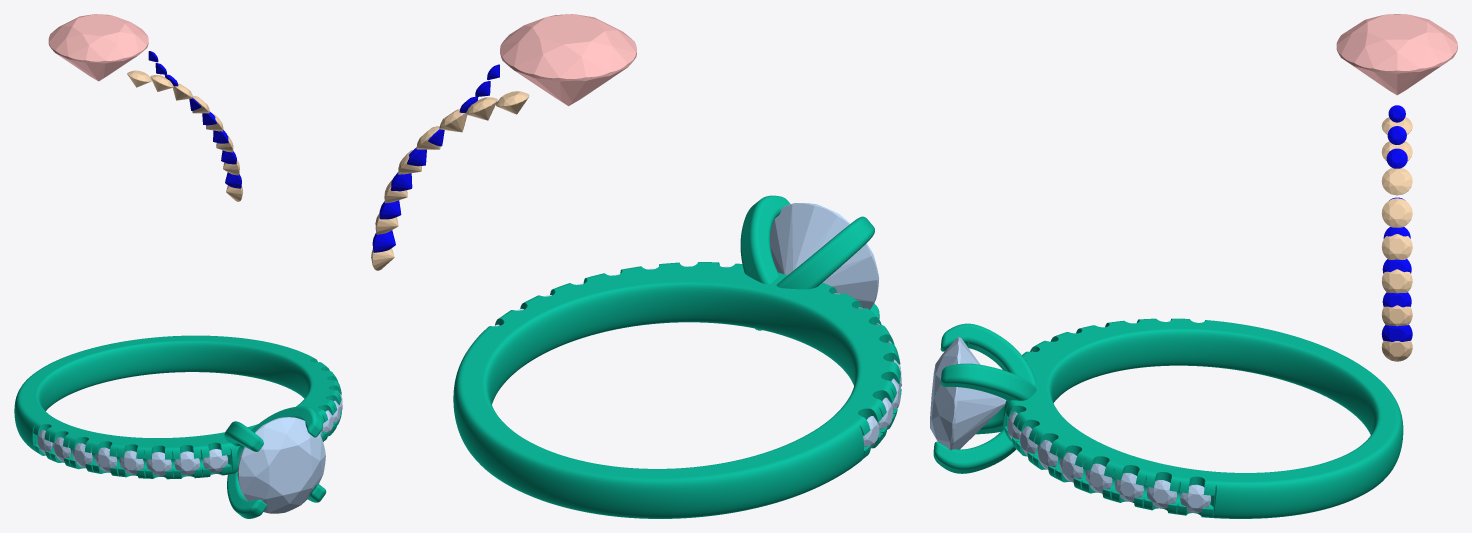
3 renders of one model, left to right at view 1: azimuth 30°, elevation 25°; view 2: azimuth 150°, elevation 25°; view 3: azimuth 270°, elevation 25°, orthographic. The views are drawn at different scales.
Visible parts, largest first — view 1: JTC 14864(base).3dm, Diamond_Round (×7); view 2: JTC 14864(base).3dm, Diamond_Round (×2); view 3: JTC 14864(base).3dm, Diamond_Round (×9).
Part boxes in pixels (<box>): JTC 14864(base).3dm: <box>14,335,341,518</box>; Diamond_Round (×7): <box>48,14,325,513</box>; JTC 14864(base).3dm: <box>453,195,901,518</box>; Diamond_Round (×2): <box>500,14,879,309</box>; JTC 14864(base).3dm: <box>933,318,1403,518</box>; Diamond_Round (×9): <box>930,14,1457,512</box>.
Bounding box in the file's own units: 2.51 × 3 × 3.36.
